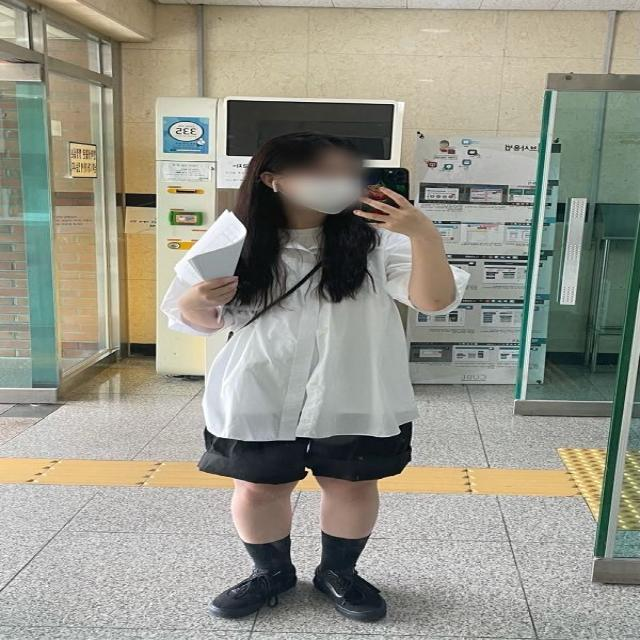shirt: (160, 225, 464, 436)
shortpants: (192, 415, 418, 482)
